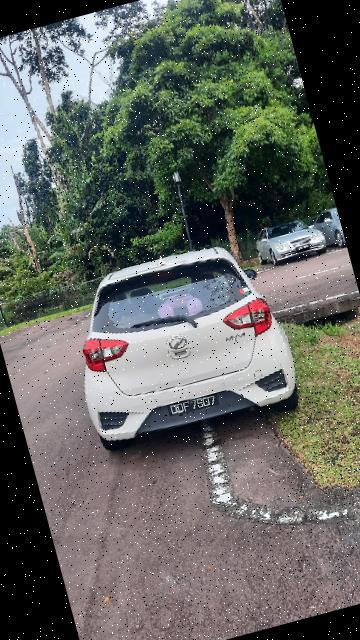License_Plate: (167, 391, 223, 424)
car: (56, 230, 308, 466), (242, 203, 329, 273)
